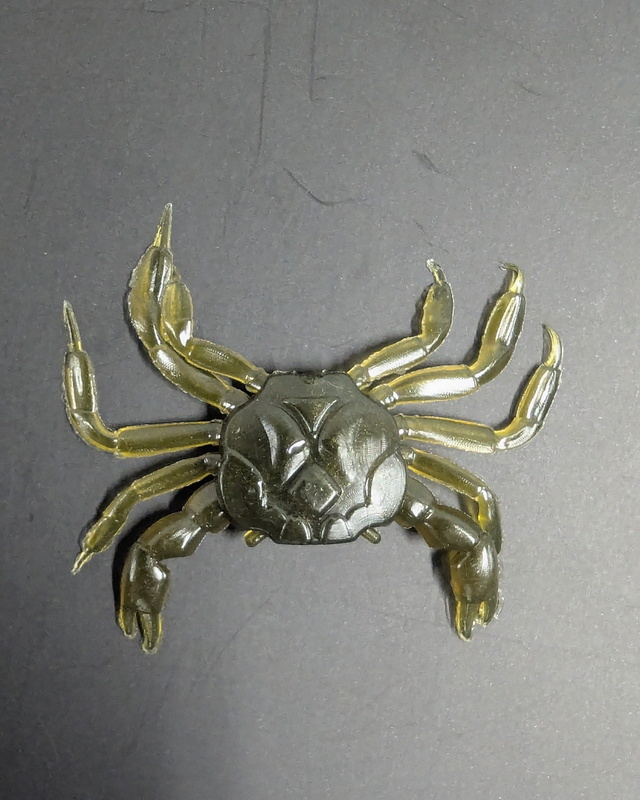crab2: (57, 200, 566, 656)
